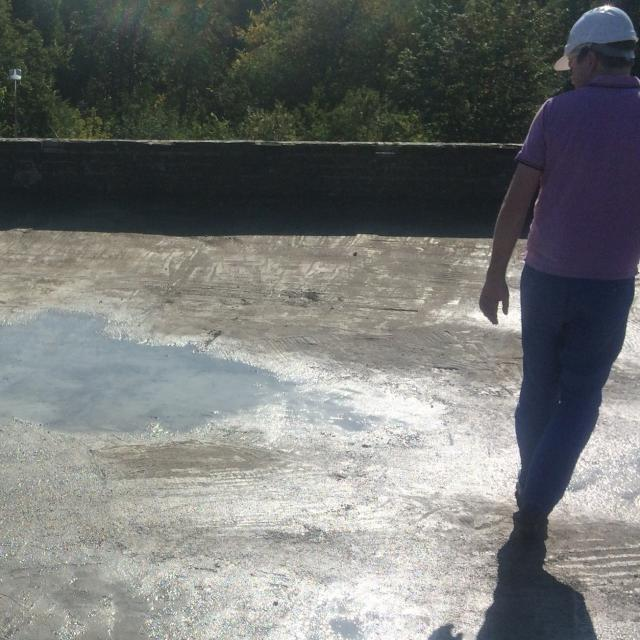Helmet: (553, 4, 640, 91)
